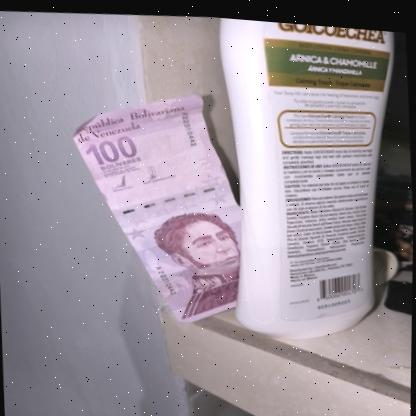one_hundred-front-vef: (66, 78, 249, 332)
